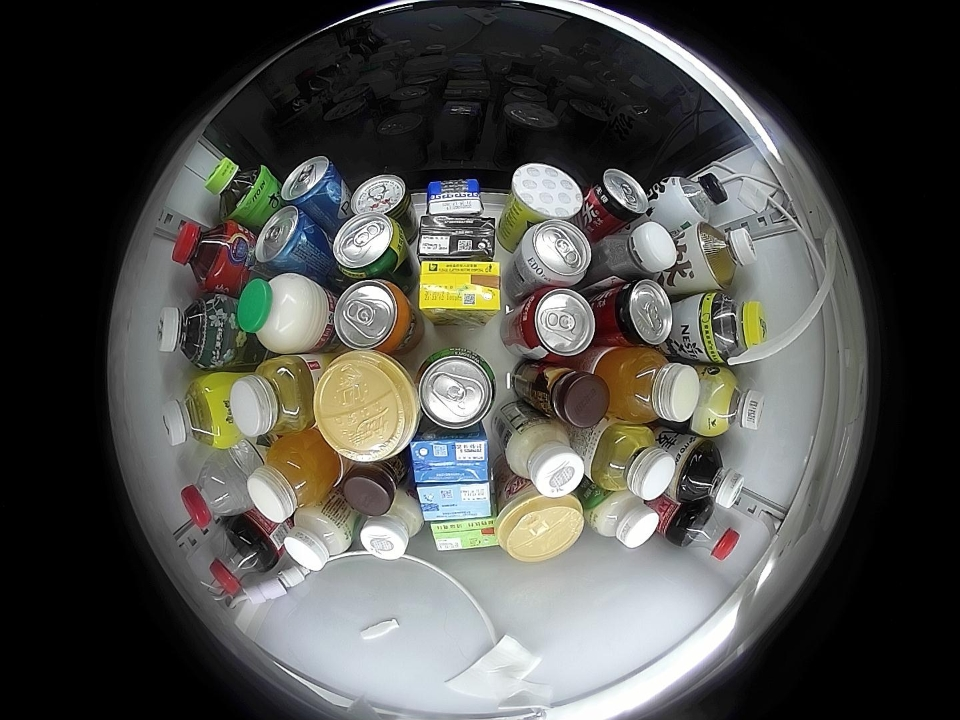anmuxi: (427, 178, 484, 217)
asamu: (696, 366, 765, 435)
binghongcha: (171, 220, 244, 292)
bingtangxueli: (163, 374, 237, 451)
chacui: (697, 292, 766, 363)
chapai2: (229, 355, 317, 437), (590, 422, 676, 499)
damaicha: (672, 434, 744, 509)
fenda: (333, 280, 413, 352)
hongniu2: (350, 173, 409, 220)
kebike: (508, 163, 582, 223)
kele: (521, 287, 596, 359)
kele-b: (209, 530, 269, 598), (675, 504, 740, 561)
lingdukele: (605, 279, 673, 347), (585, 169, 649, 227)
liziyuan: (237, 273, 330, 354)
lujikafei: (537, 363, 609, 429), (342, 456, 401, 515)
moliqingcha: (156, 296, 227, 367)
nongfushanquan: (179, 453, 252, 529)
qingdaowangzi-2: (254, 206, 323, 271), (279, 157, 345, 213)
quchenshixiangcao: (415, 348, 497, 429)
rancha-2: (696, 221, 757, 289)
rusuanjunqishui: (516, 219, 591, 286)
wanglaoji: (432, 517, 498, 550)
weic: (247, 433, 340, 521), (598, 346, 700, 424)
weitanai: (408, 430, 491, 484)
weitanai2: (417, 216, 494, 260)
weitanaiditang: (417, 481, 492, 521)
weitaningmeng: (419, 260, 502, 317)
weiweidounai: (506, 419, 584, 497), (359, 493, 424, 560)
xuebi2: (331, 214, 407, 279)
yitengyuan: (204, 155, 272, 221)
youlemei: (313, 351, 417, 462), (496, 489, 585, 562)
yousuanru: (283, 502, 353, 571), (587, 489, 659, 548)
youyanggudong: (603, 220, 677, 281)
yuanqishui: (654, 173, 728, 230)
